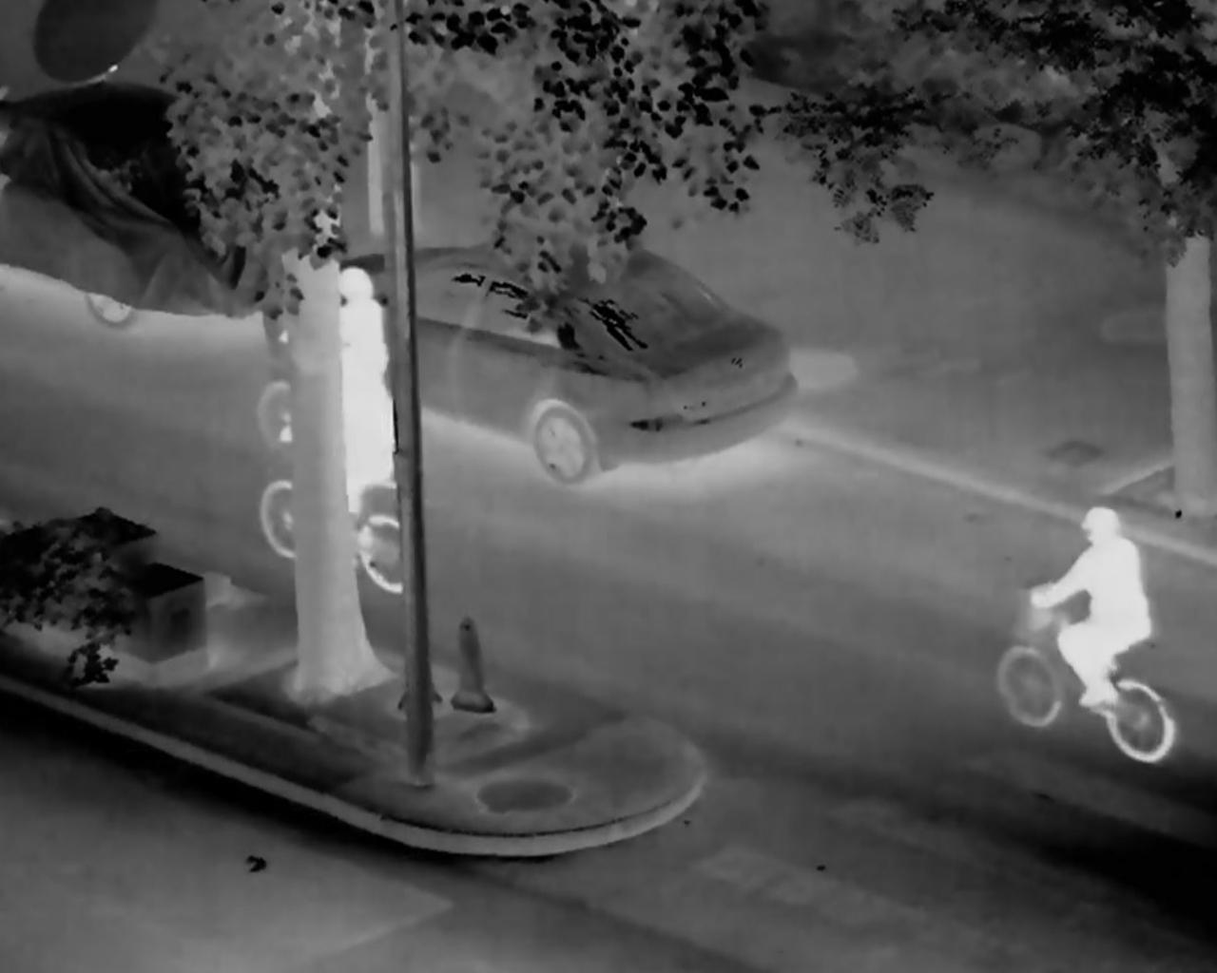person: (1030, 503, 1149, 711), (278, 261, 392, 438), (293, 356, 396, 531)
